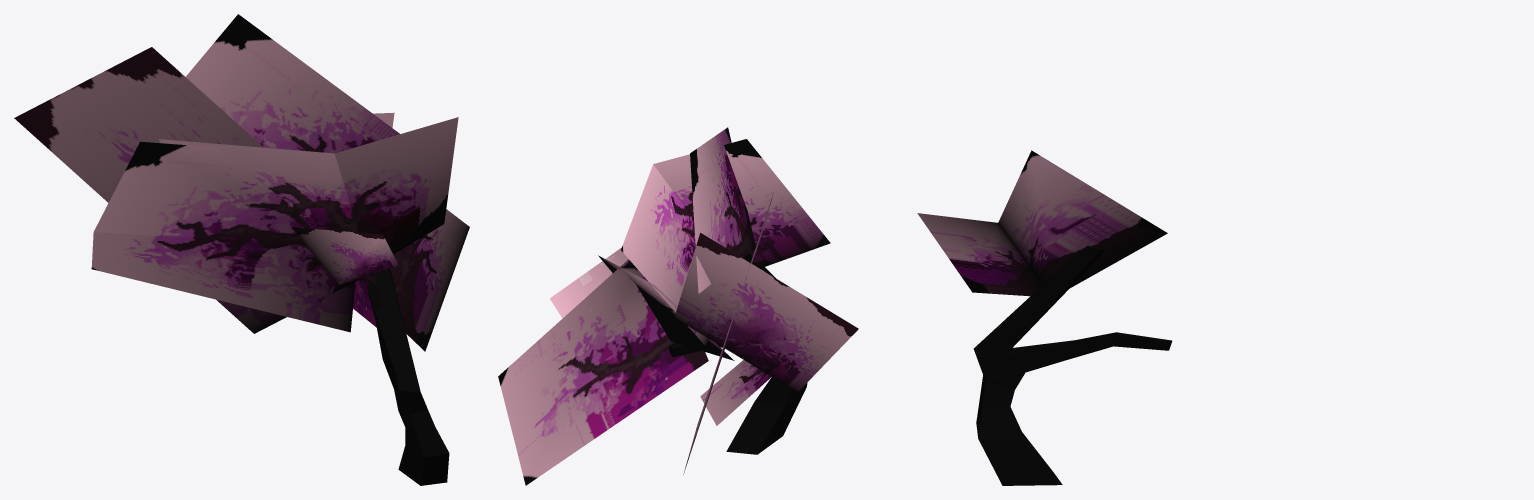
The model's file is SakuraTree2.glb.
The picture shows the model from 3 angles, left to right: view 1: azimuth 30°, elevation 25°; view 2: azimuth 150°, elevation 25°; view 3: azimuth 270°, elevation 25°; orthographic projection. The views are drawn at different scales.
Visible parts, largest first — view 1: Sakura_Tree_2; view 2: Sakura_Tree_2; view 3: Sakura_Tree_2.
Boxes of the visible parts, bbox=[...] form: Sakura_Tree_2: bbox=[14, 14, 469, 485]; Sakura_Tree_2: bbox=[498, 127, 858, 485]; Sakura_Tree_2: bbox=[917, 150, 1172, 485].
Bounding box in the file's own units: 12.45 × 14.76 × 19.74.
Materials: 1 (1 with a texture image).
